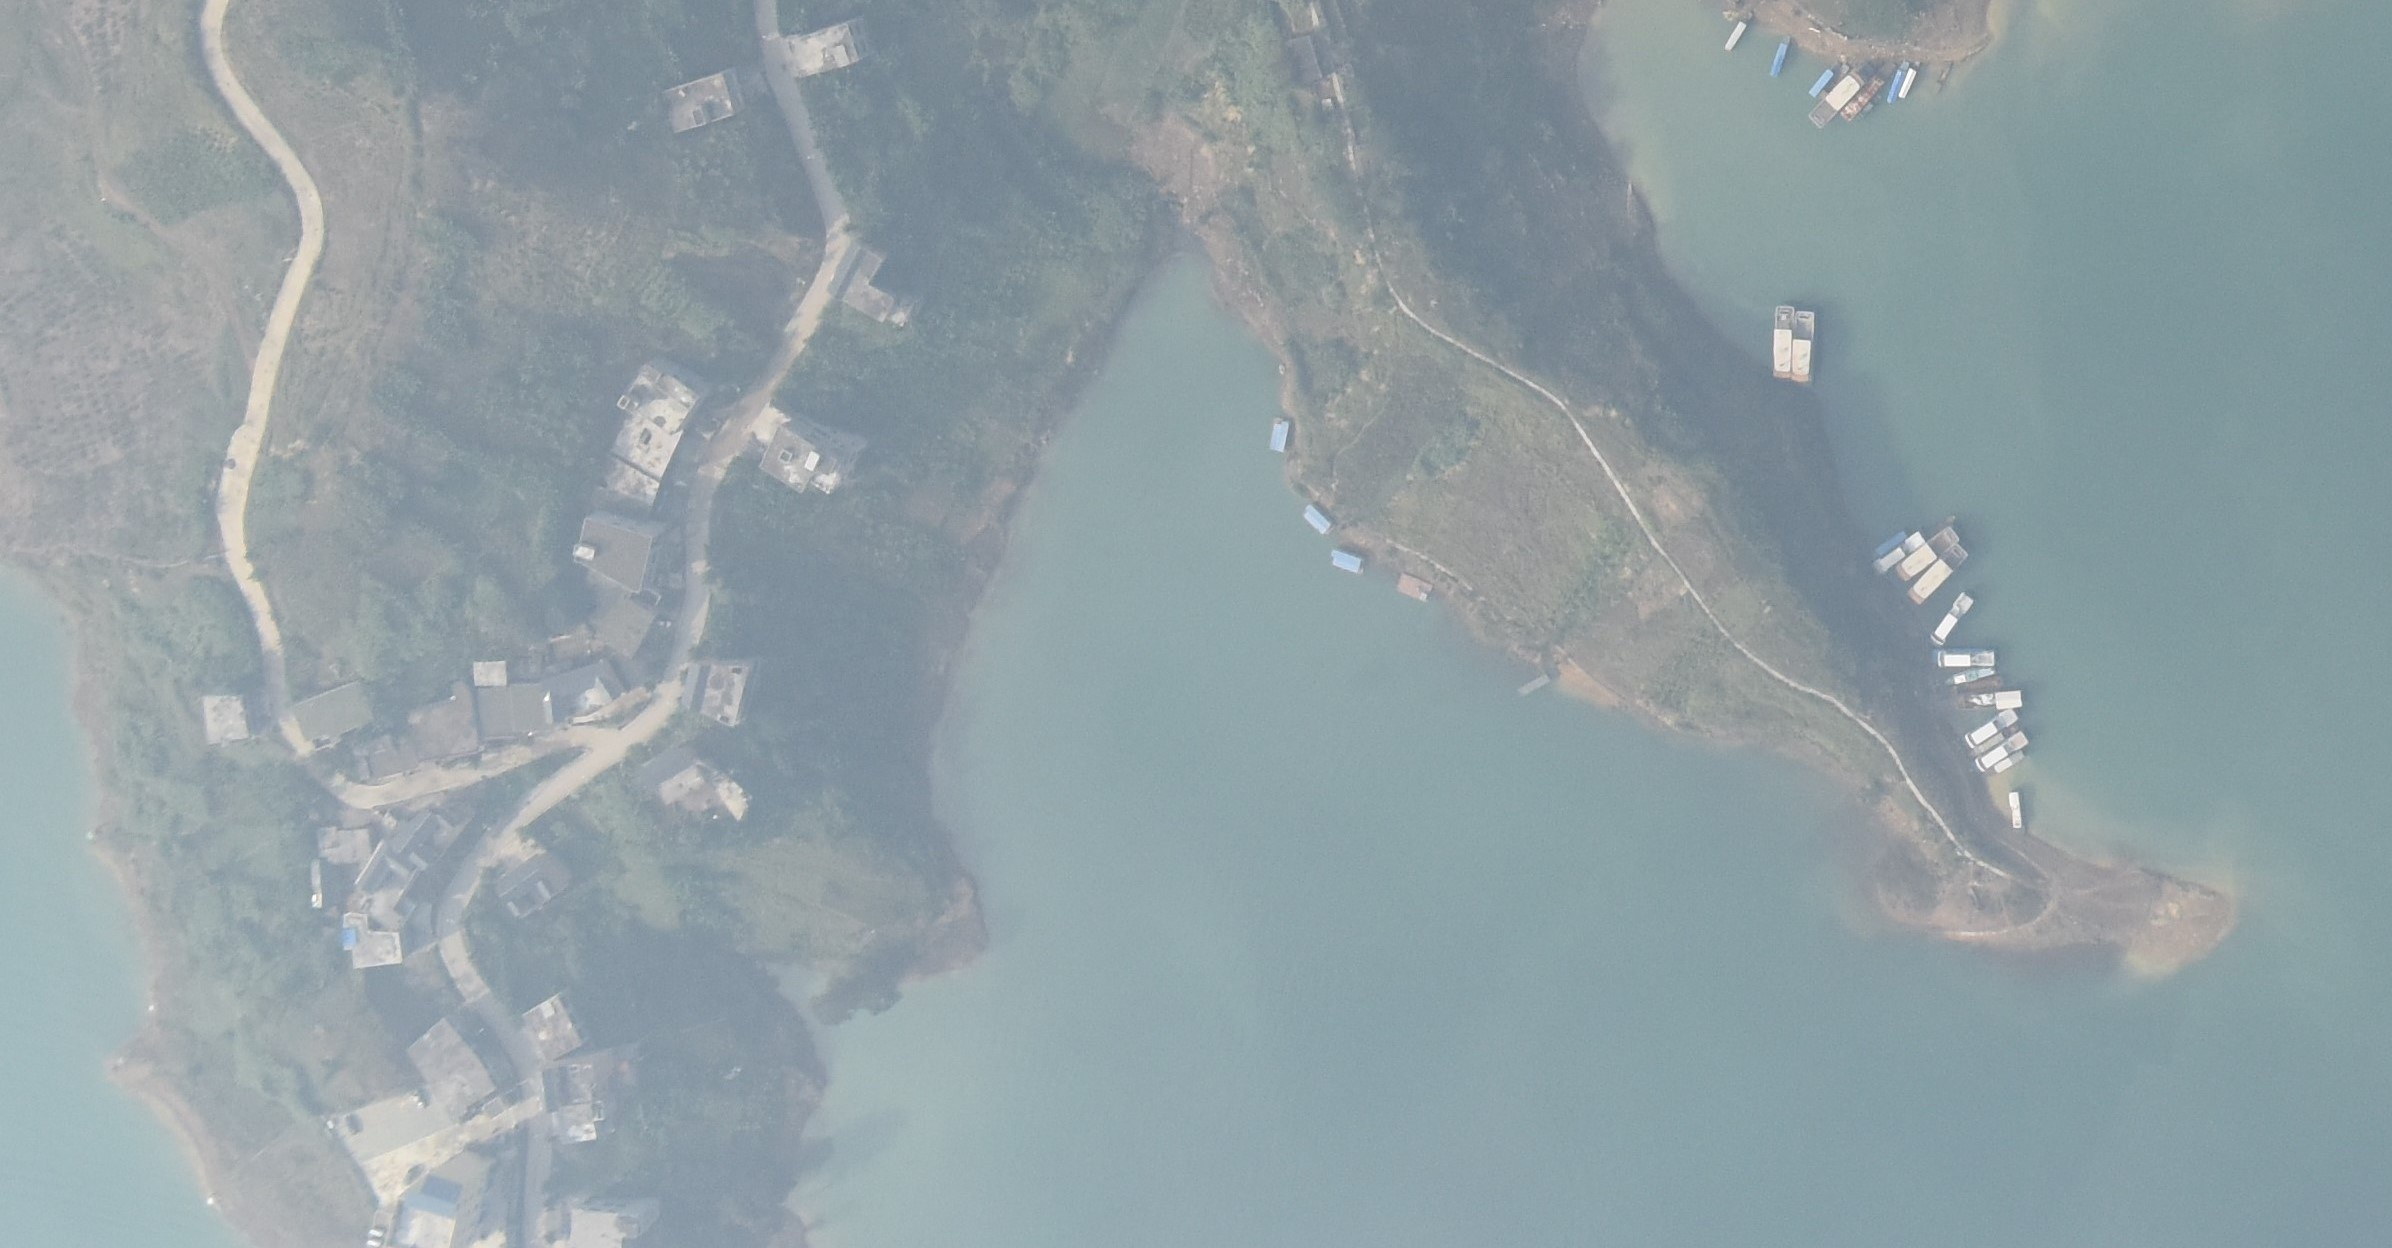building: (368, 1147, 505, 1248), (757, 416, 883, 511), (562, 505, 682, 603), (401, 1017, 501, 1125), (394, 674, 487, 769), (821, 237, 904, 340), (608, 356, 714, 434), (284, 672, 378, 754), (468, 675, 556, 762), (604, 403, 688, 489), (779, 15, 872, 92), (543, 664, 642, 735), (490, 853, 583, 928), (657, 71, 759, 133), (695, 652, 768, 738), (511, 986, 589, 1064), (588, 452, 669, 519), (335, 907, 407, 976), (565, 1195, 657, 1248), (349, 732, 423, 790), (198, 688, 253, 751), (313, 822, 378, 872), (550, 1102, 611, 1146), (391, 868, 439, 921), (649, 765, 708, 808), (393, 804, 439, 859), (673, 656, 709, 723), (356, 833, 393, 894), (301, 858, 338, 914), (463, 649, 508, 688)
prefabricated-house: (1871, 527, 1916, 565), (1720, 4, 1751, 57), (1299, 501, 1338, 539), (1262, 413, 1291, 455), (1329, 547, 1371, 573), (1884, 68, 1908, 107), (1896, 65, 1920, 103), (1807, 66, 1831, 102), (1768, 39, 1789, 75), (1996, 690, 2027, 713)
ship: (1805, 65, 1877, 130), (1909, 541, 1973, 606), (1892, 524, 1961, 583), (1927, 589, 1976, 647), (1963, 706, 2025, 750), (1972, 730, 2030, 775), (1929, 644, 2005, 674), (1791, 311, 1815, 384), (1772, 303, 1794, 381), (1962, 725, 2019, 753), (1945, 666, 2003, 689), (2005, 790, 2029, 829), (1995, 750, 2027, 773)
vehicle: (343, 1112, 372, 1145)
